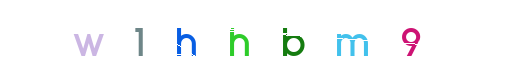1: (136, 0, 216, 80)
9: (371, 0, 451, 80)
B: (226, 0, 306, 80)
H: (145, 0, 225, 80), (223, 0, 303, 80)
M: (306, 0, 386, 80)
W: (110, 0, 190, 80)
